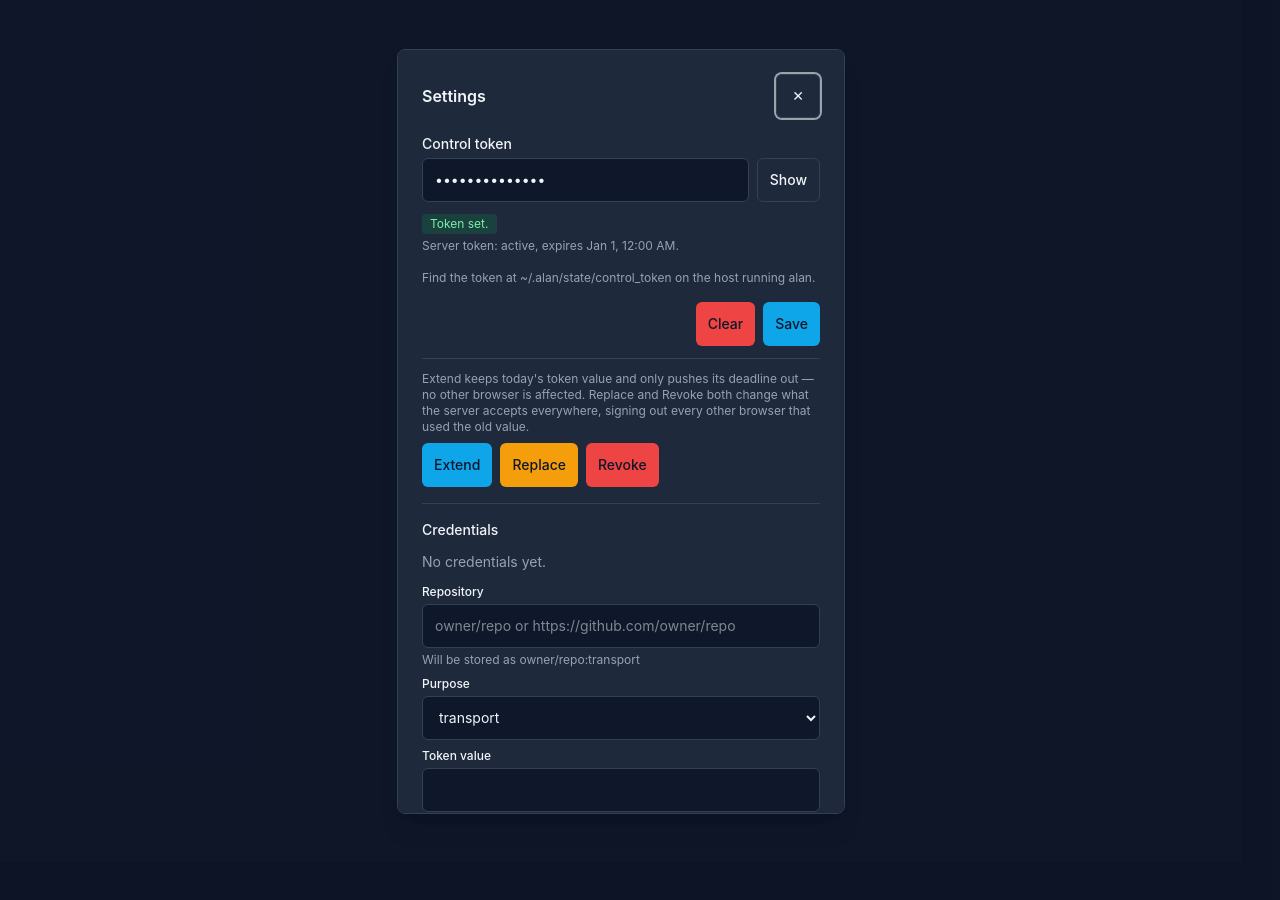
Test: SettingsModal › Clear removes the stored token, empties the input, and updates the indicator
Step 1. Click the button with test id "clear-token" → (725, 324), box x1=696 y1=302 x2=755 y2=346
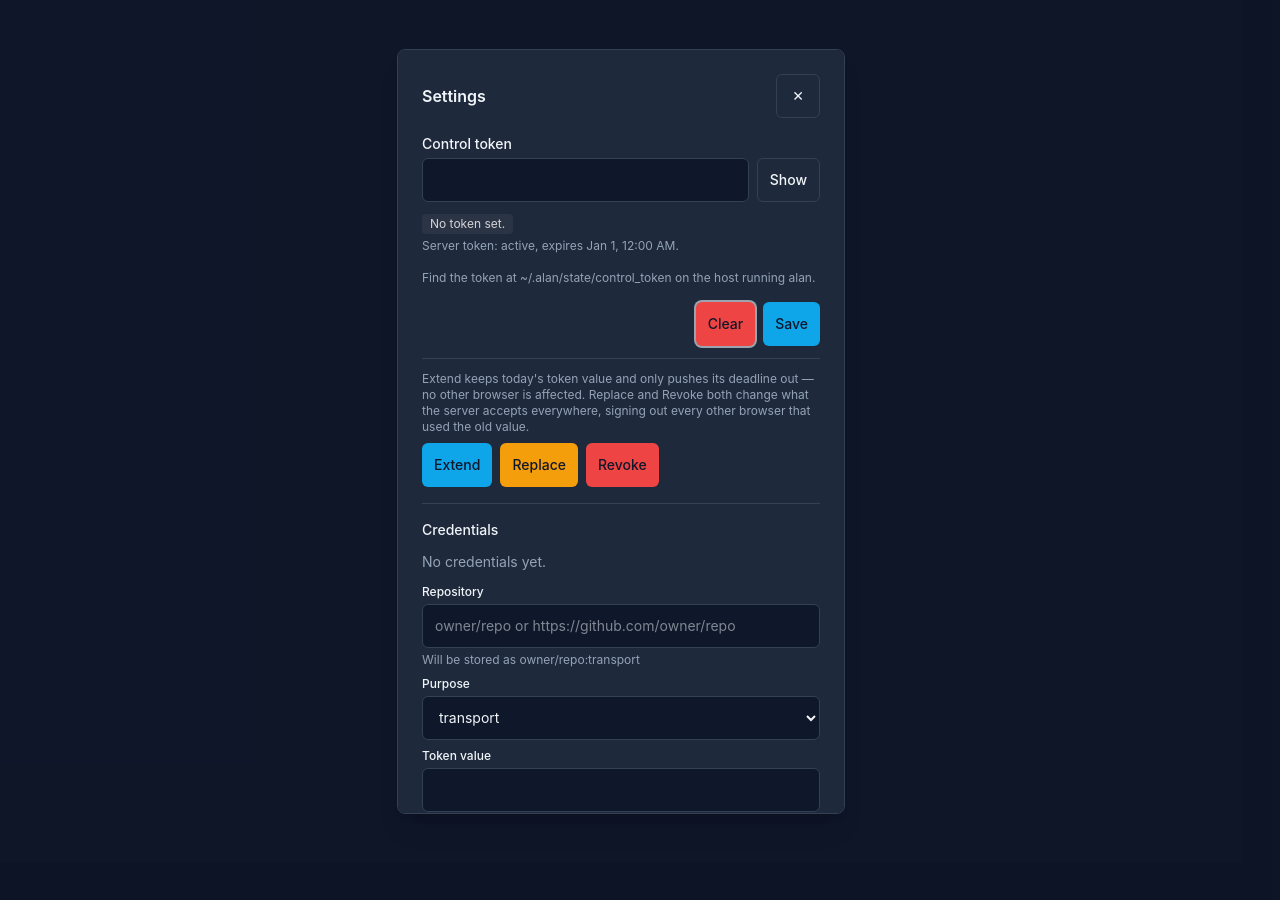
Expected: the password field with test id "control-token-input" is empty, x1=422 y1=158 x2=749 y2=202
Expected: the text with test id "control-token-status" reads "No token set.", x1=430 y1=216 x2=505 y2=230
